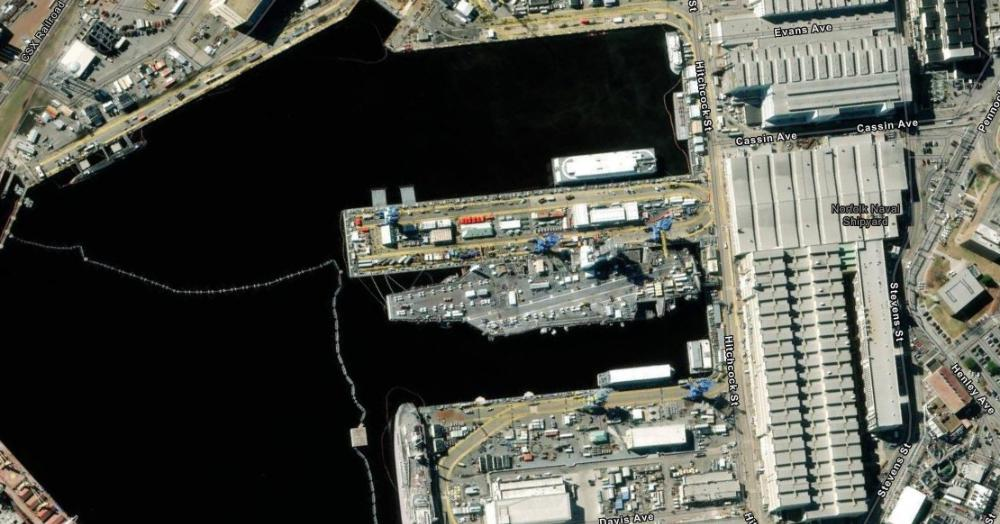carrier: (381, 238, 707, 341)
submarine: (68, 136, 159, 190)
